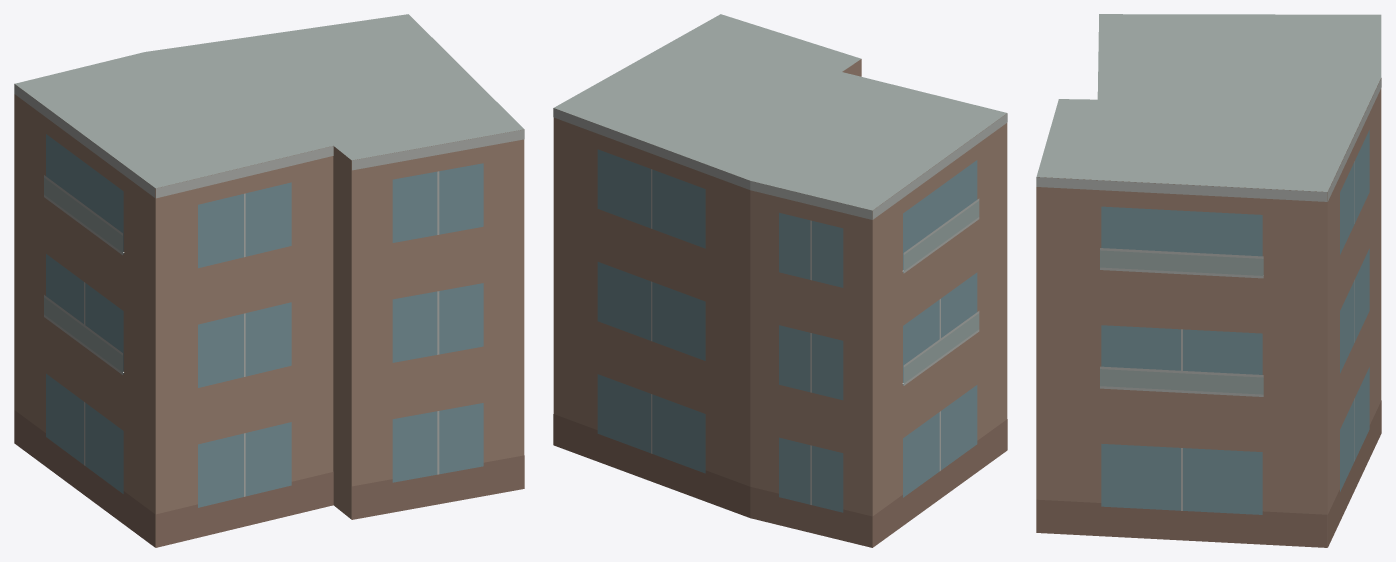
File: survey-upis-32902120.glb
3 views of the same model, side by side, from view 1: azimuth 30°, elevation 25°; view 2: azimuth 150°, elevation 25°; view 3: azimuth 270°, elevation 25° (orthographic). The views are drawn at different scales.
Parts seen in each view (by area): view 1: survey-upis-32902120.tmp; view 2: survey-upis-32902120.tmp; view 3: survey-upis-32902120.tmp.
Part boxes in pixels (left/top/right/bottom): survey-upis-32902120.tmp: left=14, top=14, right=524, bottom=547; survey-upis-32902120.tmp: left=553, top=14, right=1007, bottom=547; survey-upis-32902120.tmp: left=1036, top=14, right=1381, bottom=547.
Bounding box in the file's own units: 9.36 × 8.69 × 7.65.
